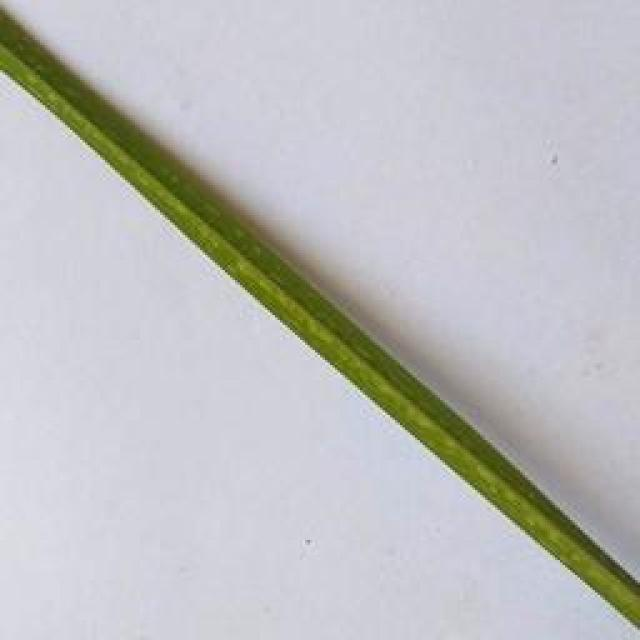Healthy-Plant: (0, 6, 640, 629)
